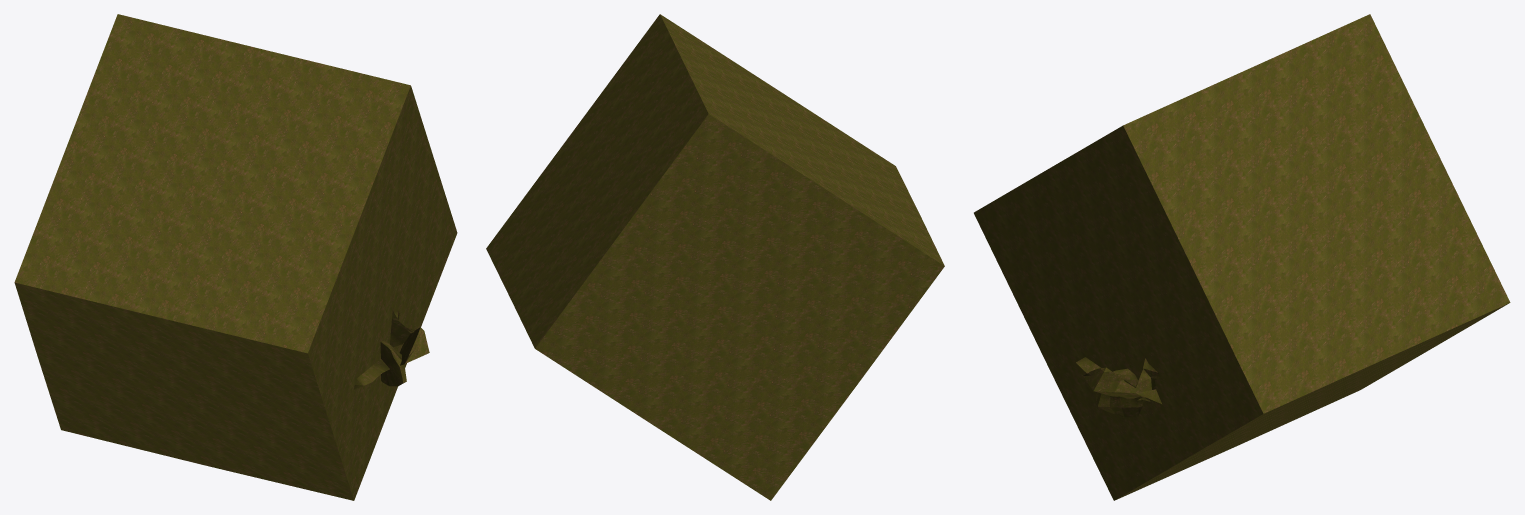
Rendered from outcrop_2.glb.
3 renders of one model, left to right at view 1: azimuth 30°, elevation 25°; view 2: azimuth 150°, elevation 25°; view 3: azimuth 270°, elevation 25°, orthographic. The views are drawn at different scales.
Visible parts, largest first — view 1: outcrop; view 2: outcrop; view 3: outcrop.
Boxes of the visible parts, x1,y1,x2,y2 form: outcrop: (14, 14, 457, 500); outcrop: (486, 14, 944, 500); outcrop: (974, 14, 1510, 500).
Bounding box in the file's own units: 20.45 × 17.78 × 20.05.
1 material, 1 textured.
